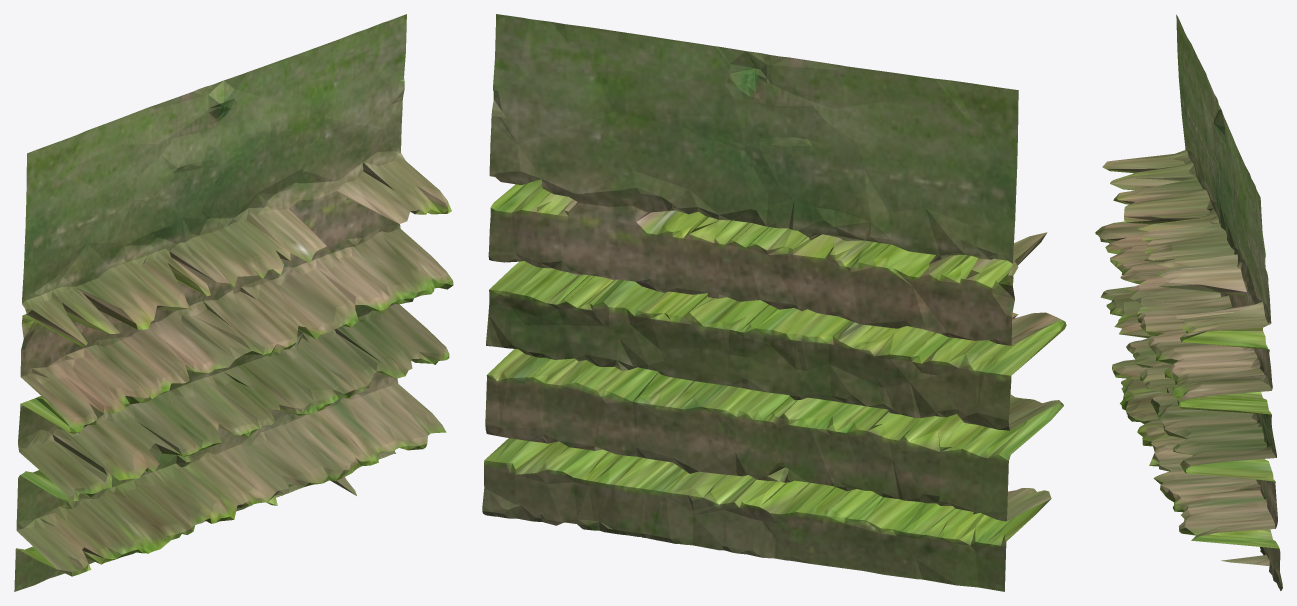
Rendered from map_260_40.obj.
3 views of the same model, side by side, from view 1: azimuth 30°, elevation 25°; view 2: azimuth 150°, elevation 25°; view 3: azimuth 270°, elevation 25° (orthographic). The views are drawn at different scales.
Parts seen in each view (by area): view 1: grp1; view 2: grp1; view 3: grp1.
Boxes of the visible parts, x1,y1,x2,y2 form: grp1: [14, 14, 453, 591]; grp1: [482, 14, 1066, 591]; grp1: [1095, 14, 1282, 590].
Size of the model in its own units: 10 by 10 by 4.32.
Materials: 1 (1 with a texture image).
